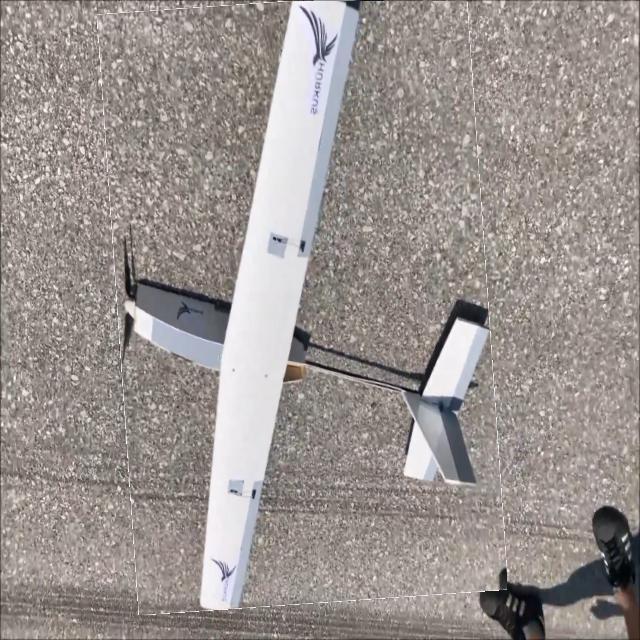iha: (102, 5, 502, 615)
